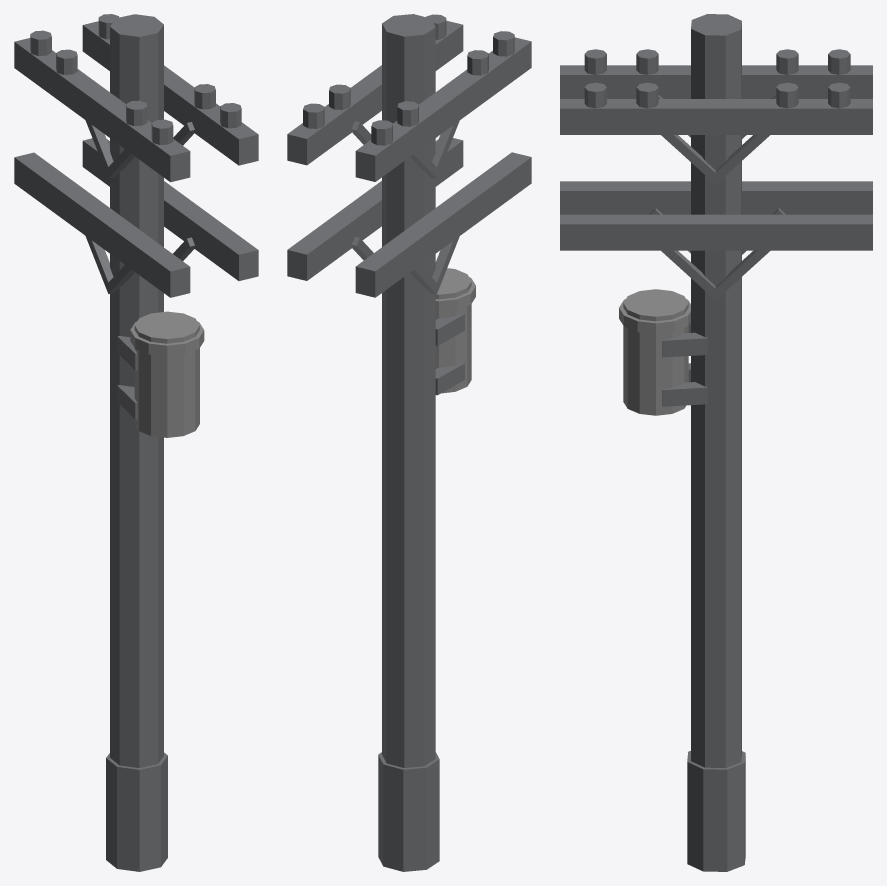
The model's file is obj_electricitypole_1.fbx.
3 renders of one model, left to right at view 1: azimuth 30°, elevation 25°; view 2: azimuth 150°, elevation 25°; view 3: azimuth 270°, elevation 25°, orthographic.
Parts seen in each view (by area): view 1: obj_electricitypole_1; view 2: obj_electricitypole_1; view 3: obj_electricitypole_1.
Part boxes in pixels (left/top/right/bottom): obj_electricitypole_1: left=14, top=14, right=258, bottom=871; obj_electricitypole_1: left=287, top=14, right=531, bottom=871; obj_electricitypole_1: left=560, top=14, right=872, bottom=871.
Size of the model in its own units: 0.5624 by 5.08 by 1.73.
1 material, 1 textured.
